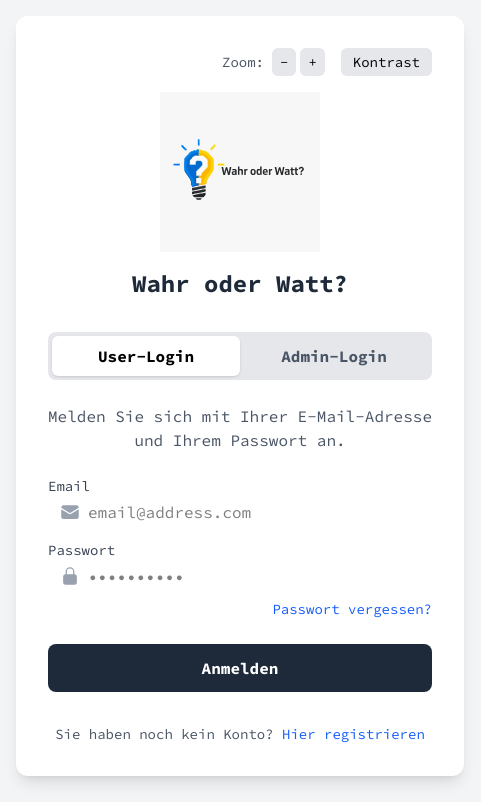
Test: LoginView.vue › Mode Switching › switches to admin login form
What coordinates should you click on to do the following:
click the button "Admin-Login"
I would click on:
 (334, 356)
Its box is x1=240 y1=336 x2=428 y2=376.
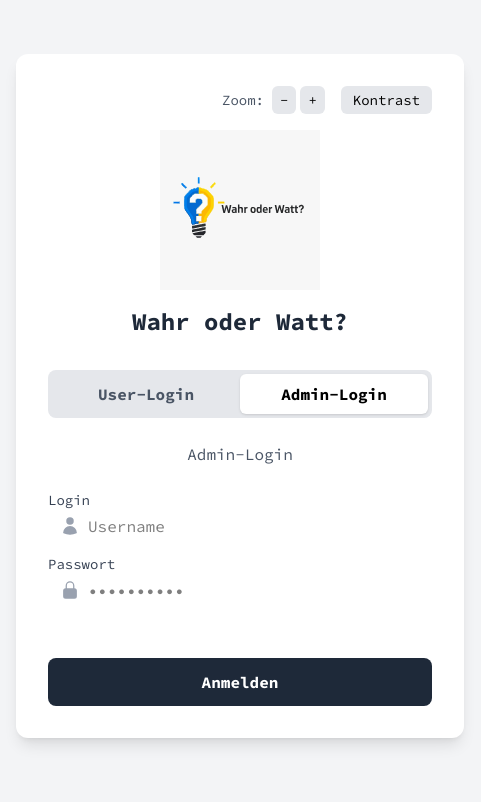
Expected: the text "Admin-Login" is shown, x1=187 y1=444 x2=293 y2=464
Expected: the field labelled "Login" is shown, x1=48 y1=514 x2=432 y2=538
Expected: the password field labelled "Passwort" is shown, x1=48 y1=578 x2=432 y2=602
